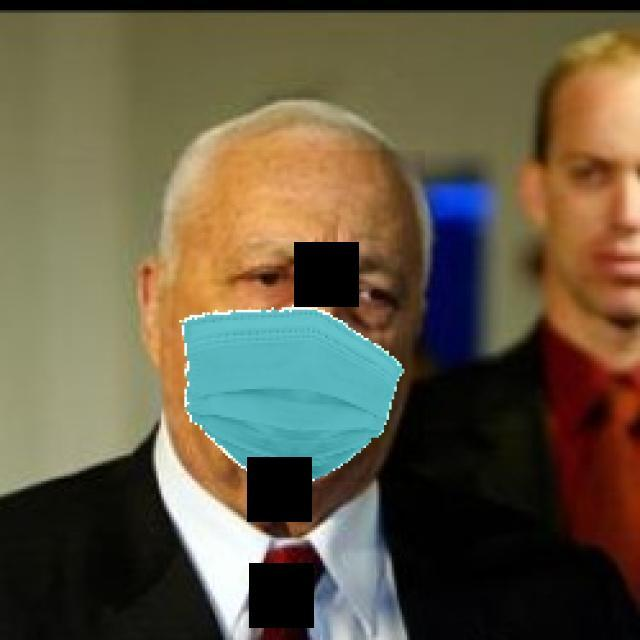surgical: (172, 150, 425, 482)
